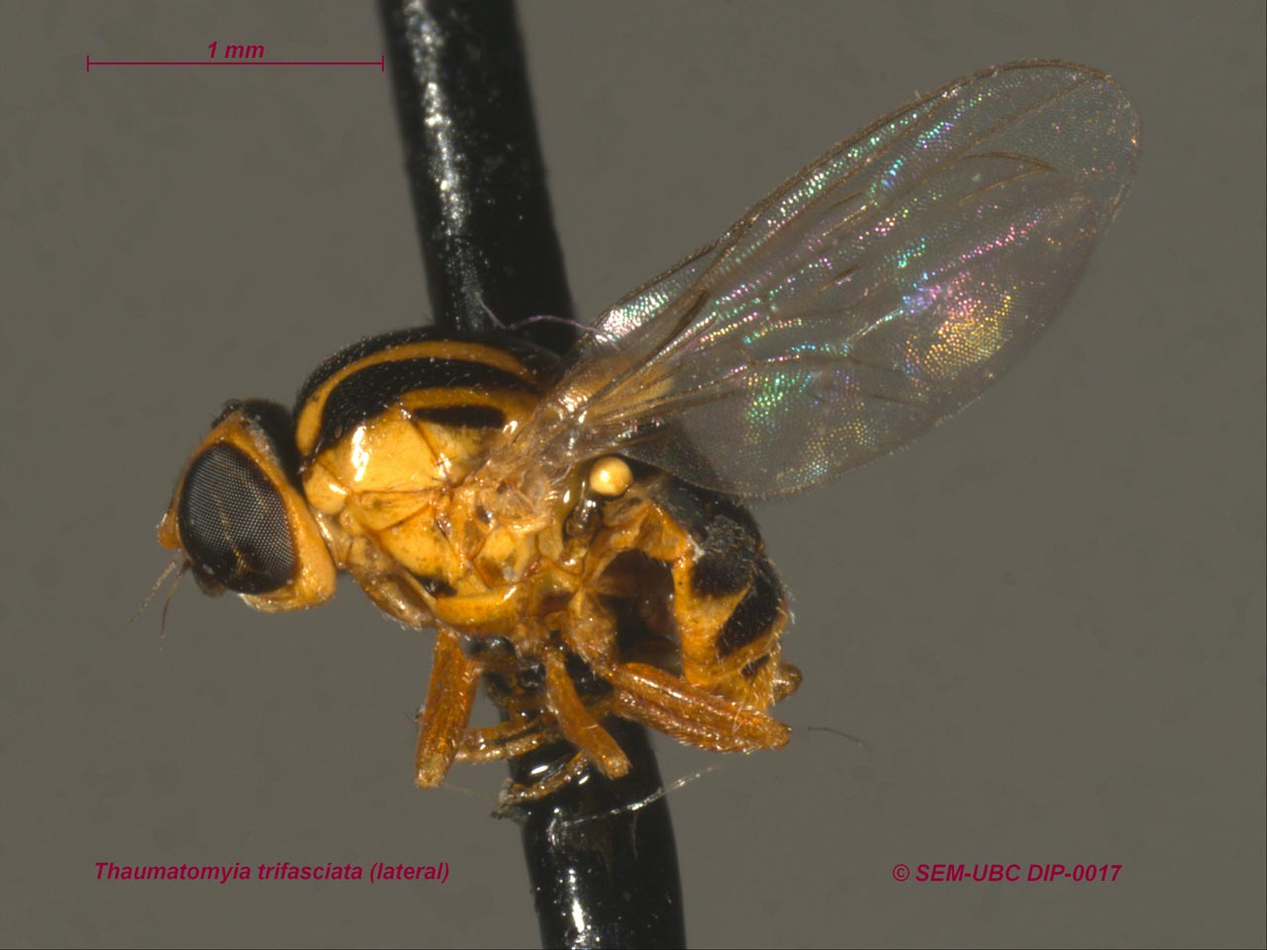Chloropidae: (140, 48, 1143, 850)
